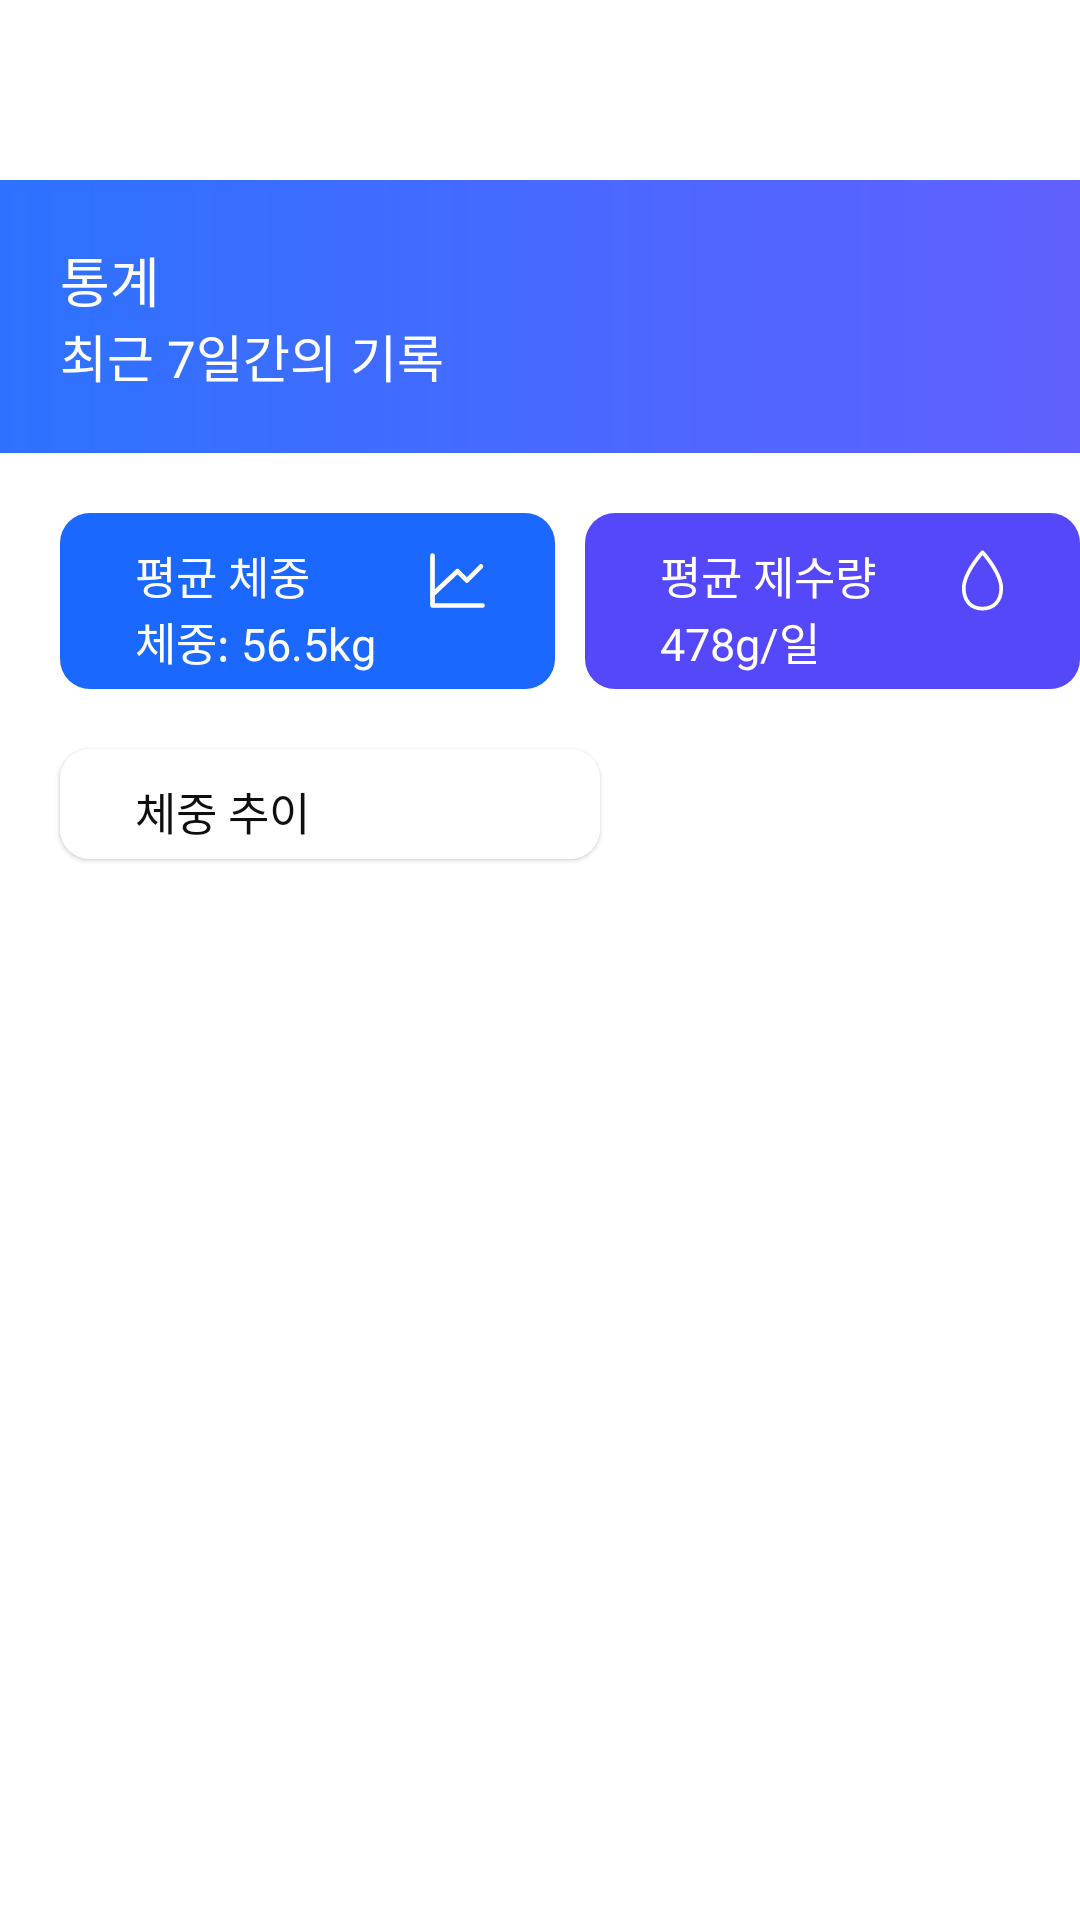

Where icons sit on this 1080x1920 app screen, as (x1, y1, x2, y2):
drop sv: (962, 550, 1003, 611)
graph sv: (430, 553, 485, 608)
